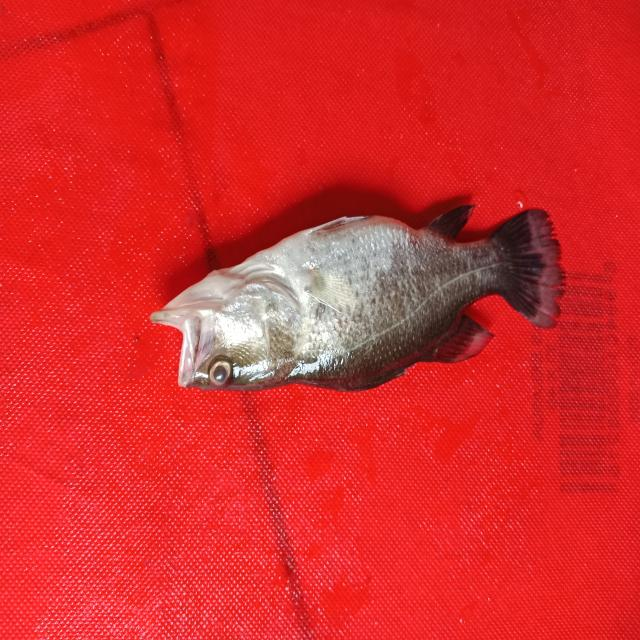ikan: (128, 189, 593, 415)
